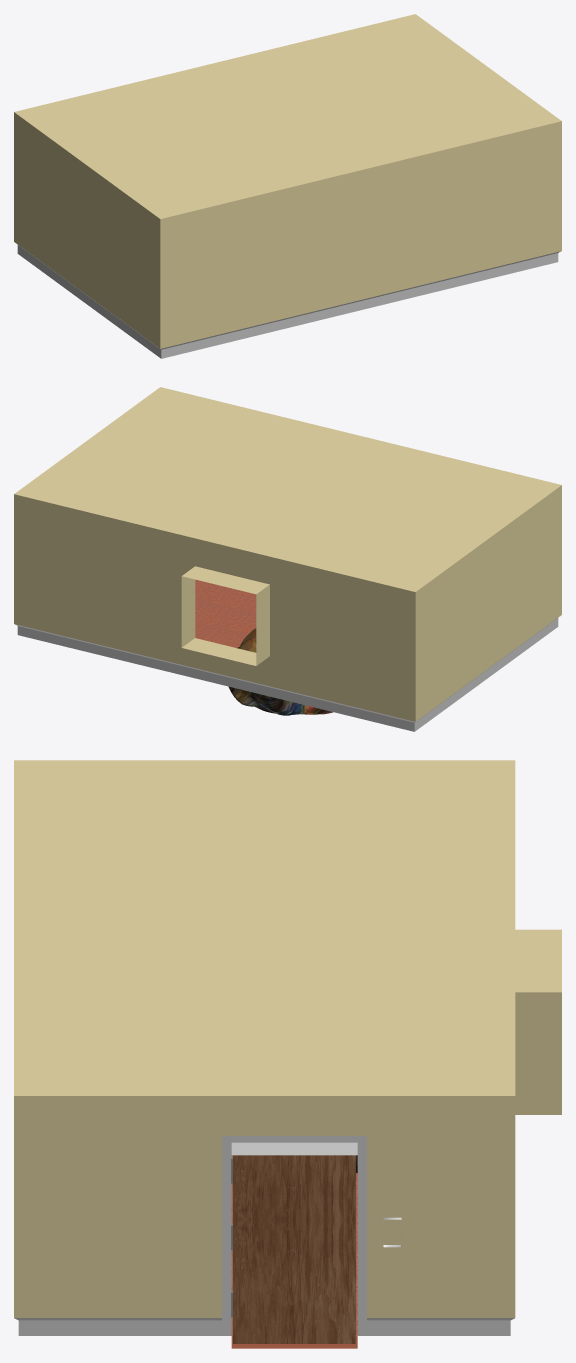
The model's file is Room.fbx.
The picture shows the model from 3 angles, top to bottom: view 1: azimuth 30°, elevation 25°; view 2: azimuth 150°, elevation 25°; view 3: azimuth 270°, elevation 25°; orthographic projection. The views are drawn at different scales.
Visible parts, largest first — view 1: Room; view 2: Room, Junk; view 3: Room.
Part boxes in pixels (box(x1,y1,x2,y2)): Room: box(14, 14, 561, 358); Room: box(14, 387, 561, 731); Junk: box(228, 628, 332, 715); Room: box(14, 760, 561, 1348).
Bounding box in the file's own units: 2611 × 1138 × 1745.
